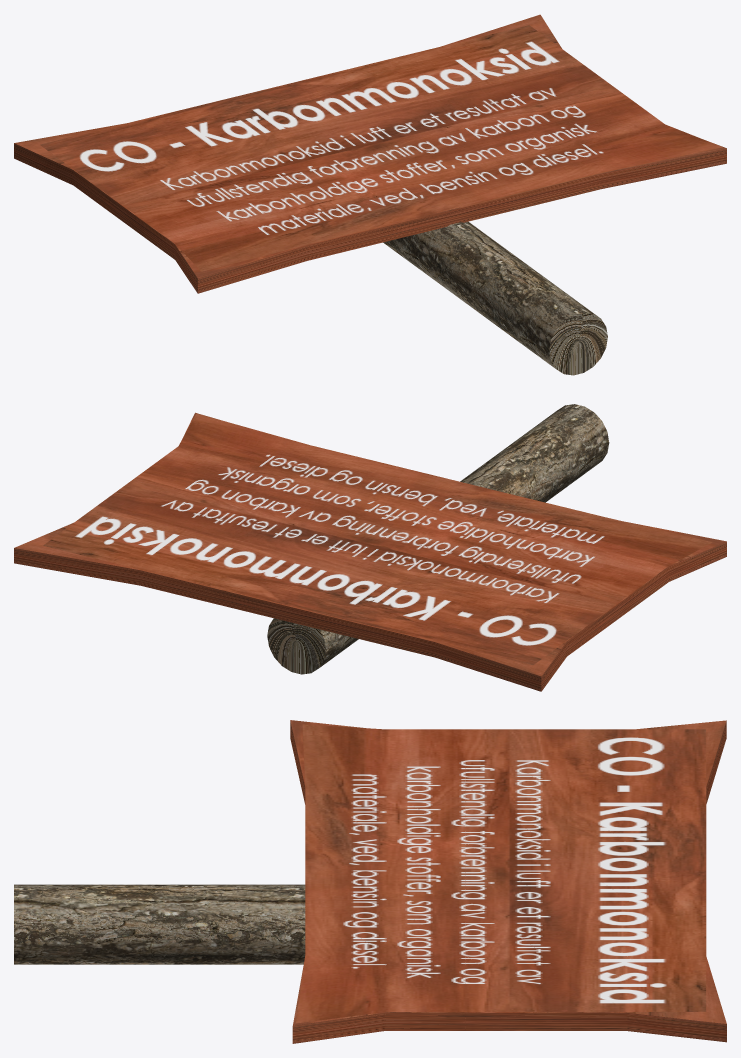
The model's file is SkiltCO_2.FBX.
3 renders of one model, top to bottom at view 1: azimuth 30°, elevation 25°; view 2: azimuth 150°, elevation 25°; view 3: azimuth 270°, elevation 25°, orthographic. The views are drawn at different scales.
Visible parts, largest first — view 1: Teksta, Cylinder001, Box002; view 2: Teksta, Box002, Cylinder001; view 3: Teksta, Cylinder001, Box002.
Part boxes in pixels (box(x1,y1,x2,y2)): Teksta: box(40, 25, 722, 271); Cylinder001: box(383, 221, 607, 375); Box002: box(14, 14, 726, 293); Teksta: box(43, 413, 712, 665); Box002: box(14, 412, 726, 691); Cylinder001: box(267, 404, 609, 674); Teksta: box(295, 724, 706, 1023); Cylinder001: box(14, 884, 305, 964); Box002: box(290, 720, 726, 1043).
Size of the model in its own units: 108 by 14.69 by 107.
3 materials, 3 textured.
